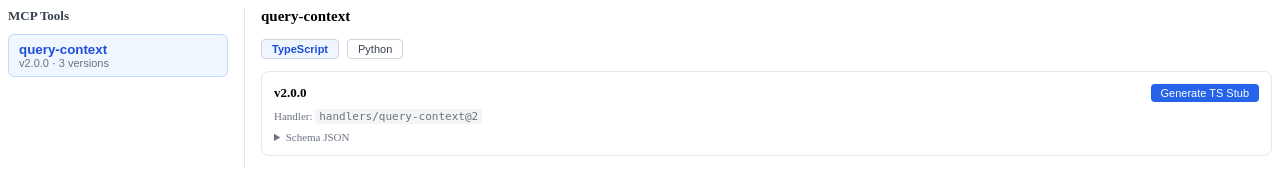
Scenario: McpToolBrowser › switches language stub button between TypeScript and Python
Step 1. Click the button "Python" → [375, 49], box [347,39,403,59]
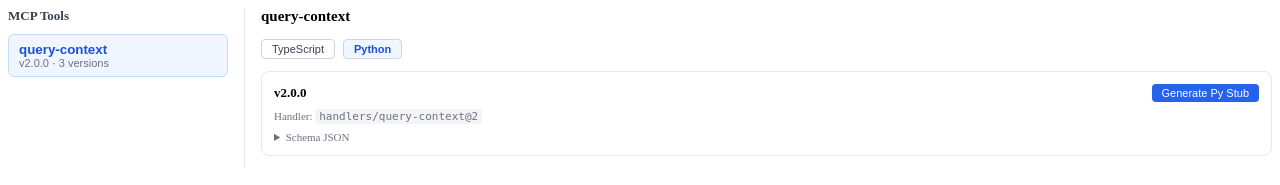
Now the button "Generate Py Stub" is shown, box [1152,84,1259,102]
